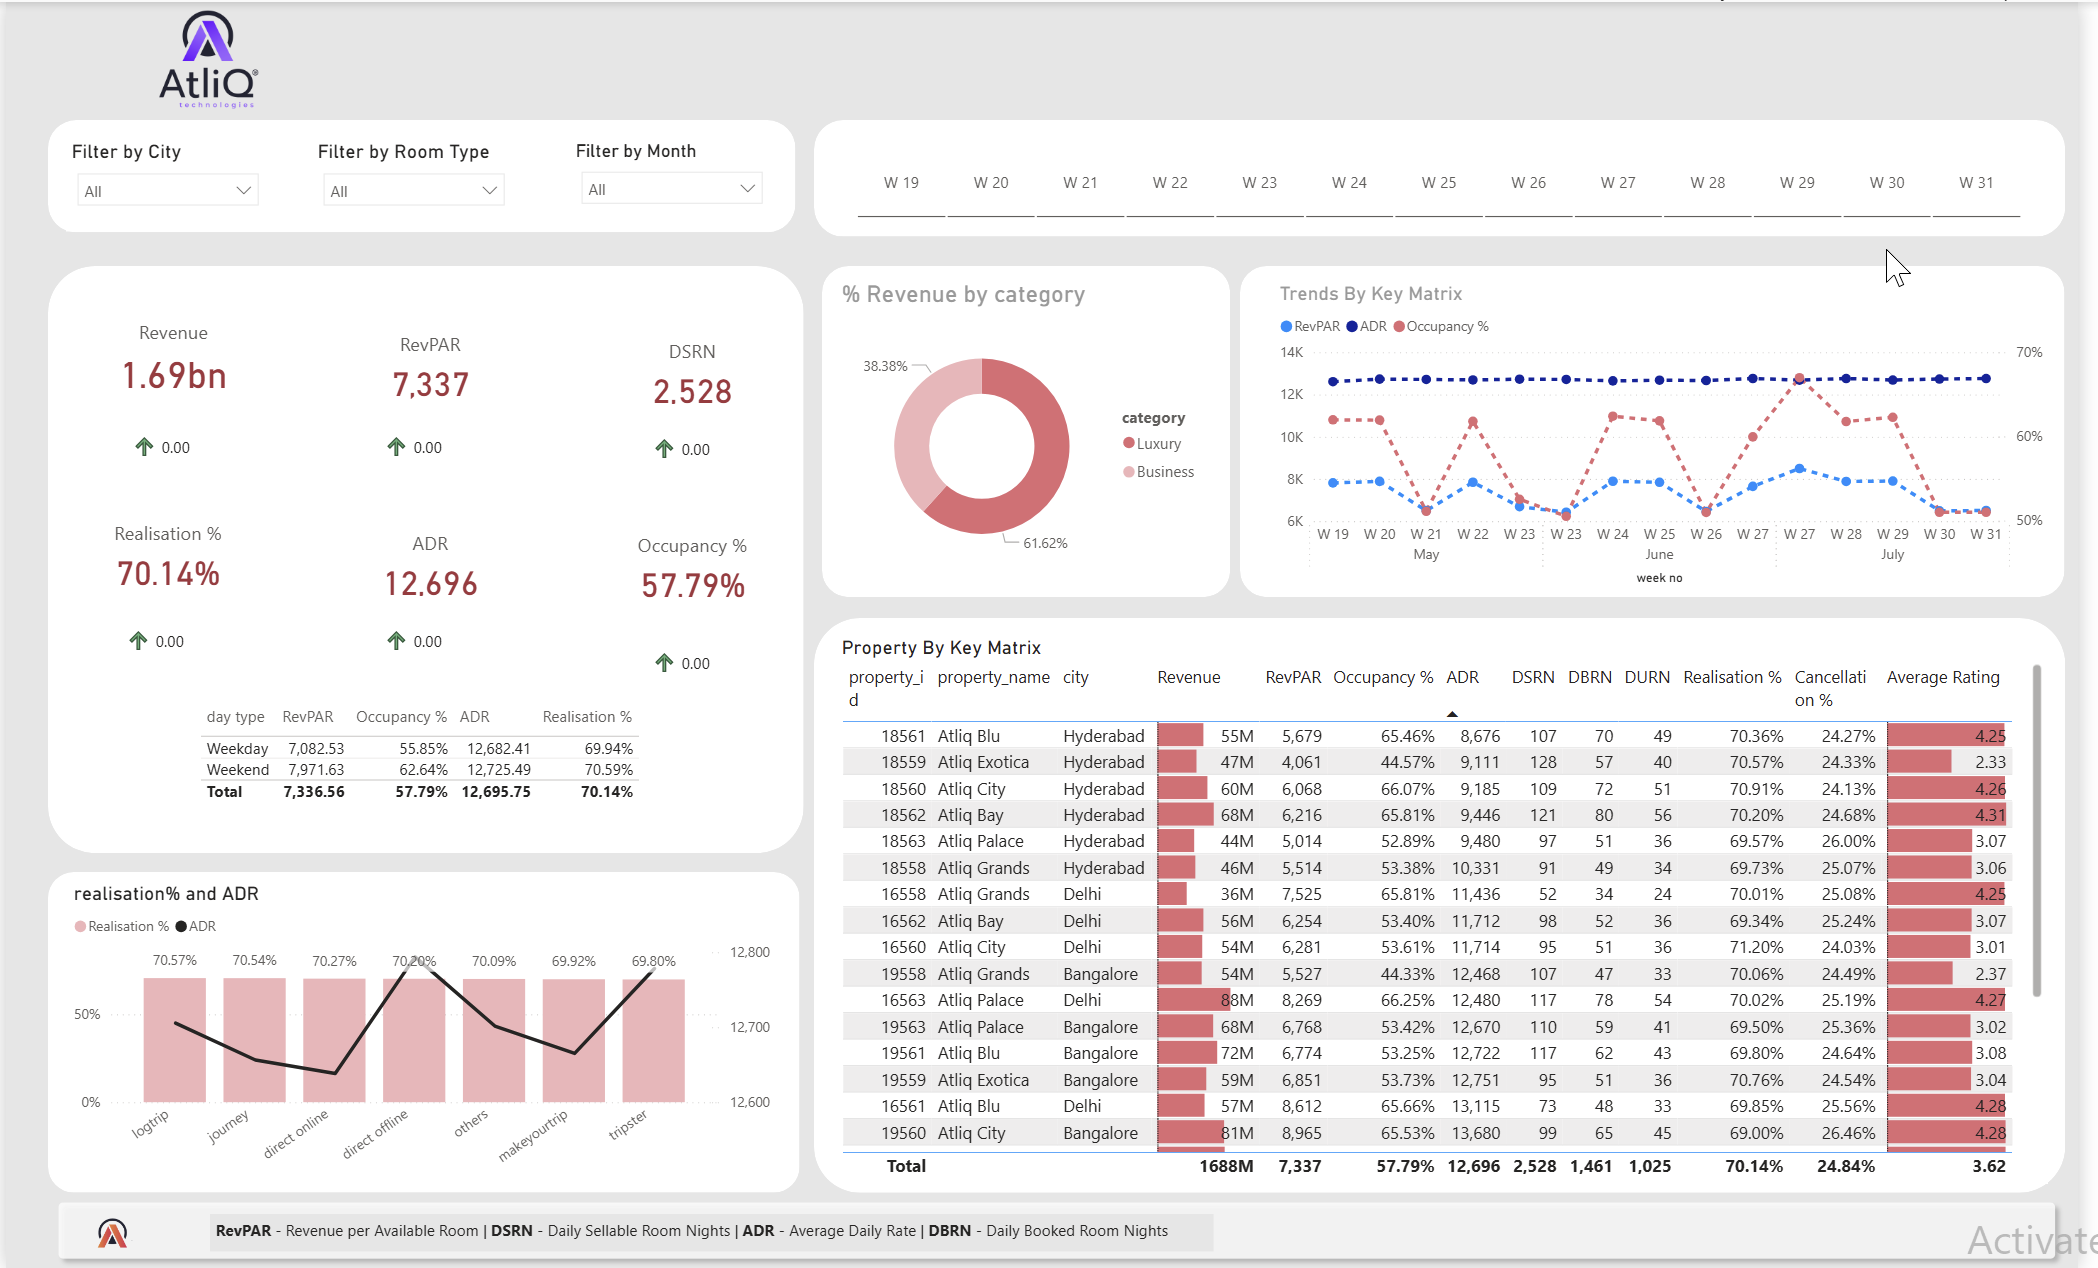

Layout of this report page (visuals, bound fields, positions):
{"tool":"powerbi","page":{"name":"Page 1","canvas":[1800,1100],"ordinal":0},"visuals":[{"type":"shape","box":[701.9,534.6,1087.2,499.3],"z":0},{"type":"shape","box":[36.2,755.3,653.1,278.6],"z":1000},{"type":"shape","box":[1072.8,228.8,716.4,287.6],"z":2000},{"type":"shape","box":[708.2,228.8,354.6,287.6],"z":3000},{"type":"shape","box":[36.2,228.8,656.7,510.2],"z":4000},{"type":"shape","box":[701.9,102.2,1087.2,101.3],"z":5000},{"type":"shape","box":[36.2,102.2,649.4,97.7],"z":6000},{"type":"tableEx","title":"Property  By Key Matrix","fields":{"Values":["dim_hotels.property_id","dim_hotels.property_name","dim_hotels.city","key_measures.Revenue","key_measures.RevPAR","key_measures.Occupancy %","key_measures.ADR","key_measures.DSRN","key_measures.DBRN","key_measures.DURN","key_measures.Realisation %","key_measures.Cancellation %"]},"box":[721.8,550.9,1052.9,475.8],"z":7000},{"type":"slicer","title":"Filter by City","fields":{"Values":["dim_hotels.city"]},"box":[52.5,120.3,177.3,79.6],"z":8000},{"type":"slicer","title":"Filter by Room Type","fields":{"Values":["dim_rooms.room_class"]},"box":[265.9,120.3,177.3,79.6],"z":9000},{"type":"slicer","title":"Filter by Month","fields":{"Values":["dim_date.mmm yy.Variation.Date Hierarchy.Month","dim_date.date"]},"box":[490.3,120.3,177.3,79.6],"z":10000},{"type":"tableEx","fields":{"Values":["key_measures.Revenue WoW change %"]},"box":[101.3,348.2,90.5,54.3],"z":11000},{"type":"slicer","fields":{"Values":["dim_date.week no"]},"box":[714.6,120.3,1060.1,74.2],"z":12000},{"type":"cardVisual","fields":{"Data":["key_measures.Revenue"]},"box":[63.3,257.8,166.4,103.1],"z":13000},{"type":"cardVisual","fields":{"Data":["key_measures.Realisation %"]},"box":[65.1,429.6,153.8,104.9],"z":14000},{"type":"cardVisual","fields":{"Data":["key_measures.RevPAR"]},"box":[293.1,257.8,150.2,119.4],"z":15000},{"type":"cardVisual","fields":{"Data":["key_measures.ADR"]},"box":[293.1,438.7,150.2,104.9],"z":16000},{"type":"donutChart","title":"% Revenue by category","fields":{"Y":["key_measures.Revenue"],"Category":["dim_hotels.category"]},"box":[720.9,241.5,327.4,265.9],"z":17000},{"type":"cardVisual","fields":{"Data":["key_measures.Occupancy %"]},"box":[530.1,440.5,133.9,103.1],"z":18000},{"type":"cardVisual","fields":{"Data":["key_measures.DSRN"]},"box":[530.1,270.5,133.9,104.9],"z":19000},{"type":"lineChart","title":"Trends By Key Matrix","fields":{"Category":["dim_date.mmm yy.Variation.Date Hierarchy.Month","dim_date.week no"],"Y":["key_measures.RevPAR","key_measures.ADR"],"Y2":["key_measures.Occupancy %"]},"box":[1101.7,243.3,673,267.7],"z":20000},{"type":"lineStackedColumnComboChart","title":"realisation% and ADR","fields":{"Category":["fact_bookings.booking_platform"],"Y":["key_measures.Realisation %"],"Y2":["key_measures.ADR"]},"box":[54.3,764.3,615.1,262.3],"z":21000},{"type":"tableEx","fields":{"Values":["key_measures.Revenue WoW change %"]},"box":[320.2,348.2,90.5,54.3],"z":22000},{"type":"tableEx","fields":{"Values":["key_measures.Revenue WoW change %"]},"box":[551.8,350.1,90.5,54.3],"z":23000},{"type":"tableEx","fields":{"Values":["key_measures.Revenue WoW change %"]},"box":[551.8,534.6,90.5,54.3],"z":24000},{"type":"tableEx","fields":{"Values":["dim_date.day type","key_measures.RevPAR","key_measures.Occupancy %","key_measures.ADR","key_measures.Realisation %"]},"box":[162.8,606.9,398,114],"z":25000},{"type":"tableEx","fields":{"Values":["key_measures.Revenue WoW change %"]},"box":[95.9,516.5,90.5,54.3],"z":26000},{"type":"tableEx","fields":{"Values":["key_measures.Revenue WoW change %"]},"box":[320.2,516.5,90.5,54.3],"z":27000},{"type":"shape","box":[36.2,1034.8,1753,66.9],"z":28000},{"type":"image","box":[52.5,1045.6,77.8,47],"z":29000},{"type":"textbox","box":[177.3,1052.9,872,32.6],"z":30000},{"type":"image","box":[52.5,0,246,103.1],"z":31000},{"type":"qnaVisual","box":[298.5,0,387.1,150],"z":31001}]}

Visuals, with their boxes in screenshot pixels (x1, y1, x2, y2), scaled from the page's 1800x1100 canvas onto the 2098x1268 screenshot:
shape: detection(818, 616, 2085, 1192)
shape: detection(42, 871, 803, 1192)
shape: detection(1250, 264, 2085, 595)
shape: detection(825, 264, 1239, 595)
shape: detection(42, 264, 808, 852)
shape: detection(818, 118, 2085, 235)
shape: detection(42, 118, 799, 230)
"Property  By Key Matrix" tableEx: detection(841, 635, 2069, 1184)
"Filter by City" slicer: detection(61, 139, 268, 230)
"Filter by Room Type" slicer: detection(310, 139, 517, 230)
"Filter by Month" slicer: detection(571, 139, 778, 230)
tableEx - key_measures.Revenue WoW change %: detection(118, 401, 224, 464)
slicer - dim_date.week no: detection(833, 139, 2069, 224)
cardVisual - key_measures.Revenue: detection(74, 297, 268, 416)
cardVisual - key_measures.Realisation %: detection(76, 495, 255, 616)
cardVisual - key_measures.RevPAR: detection(342, 297, 517, 435)
cardVisual - key_measures.ADR: detection(342, 506, 517, 627)
"% Revenue by category" donutChart: detection(840, 278, 1222, 585)
cardVisual - key_measures.Occupancy %: detection(618, 508, 774, 627)
cardVisual - key_measures.DSRN: detection(618, 312, 774, 433)
"Trends By Key Matrix" lineChart: detection(1284, 280, 2069, 589)
"realisation% and ADR" lineStackedColumnComboChart: detection(63, 881, 780, 1183)
tableEx - key_measures.Revenue WoW change %: detection(373, 401, 479, 464)
tableEx - key_measures.Revenue WoW change %: detection(643, 404, 749, 466)
tableEx - key_measures.Revenue WoW change %: detection(643, 616, 749, 679)
tableEx - dim_date.day type x key_measures.RevPAR: detection(190, 700, 654, 831)
tableEx - key_measures.Revenue WoW change %: detection(112, 595, 217, 658)
tableEx - key_measures.Revenue WoW change %: detection(373, 595, 479, 658)
shape: detection(42, 1193, 2085, 1267)
image: detection(61, 1205, 152, 1259)
textbox: detection(207, 1214, 1223, 1251)
image: detection(61, 0, 348, 119)
qnaVisual: detection(348, 0, 799, 173)
